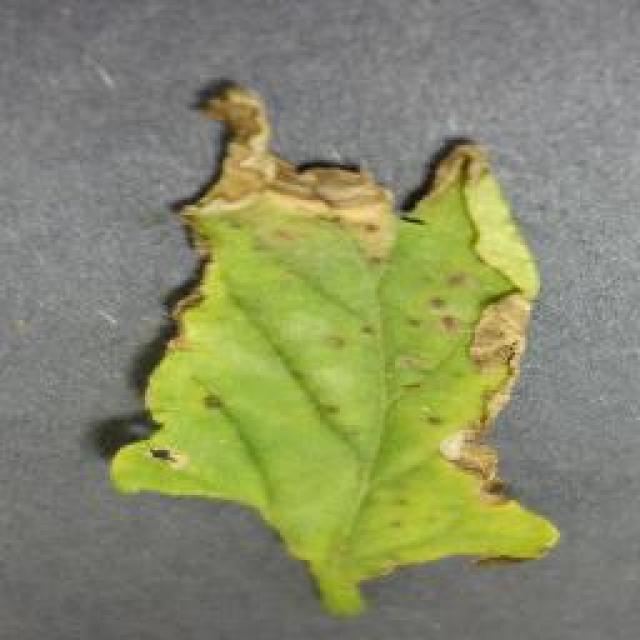Tomato___Bacterial_spot: (102, 72, 568, 621)
